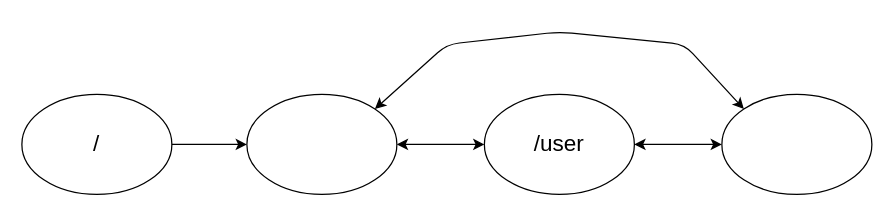
This 894x216 diagram has some shape labels left out. Here are the shapes that lost their labels. From the top down, the box of each, then its label:
(246, 93, 397, 194): /home
(721, 93, 872, 194): /projects
